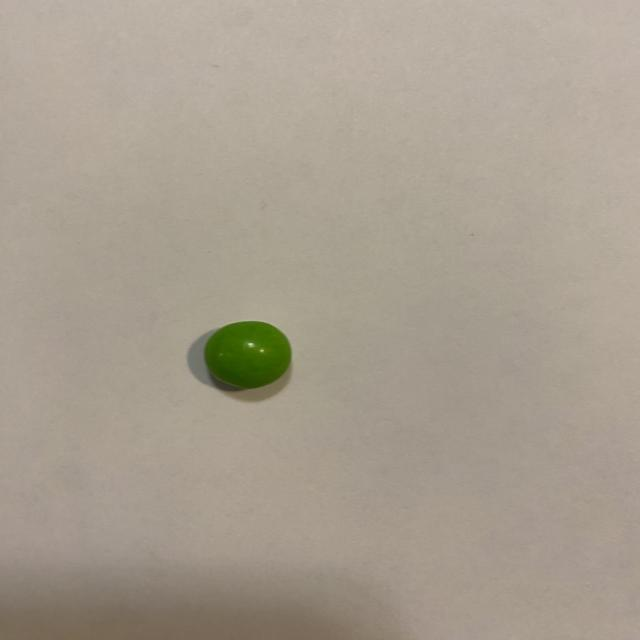smartie: (206, 321, 292, 390)
